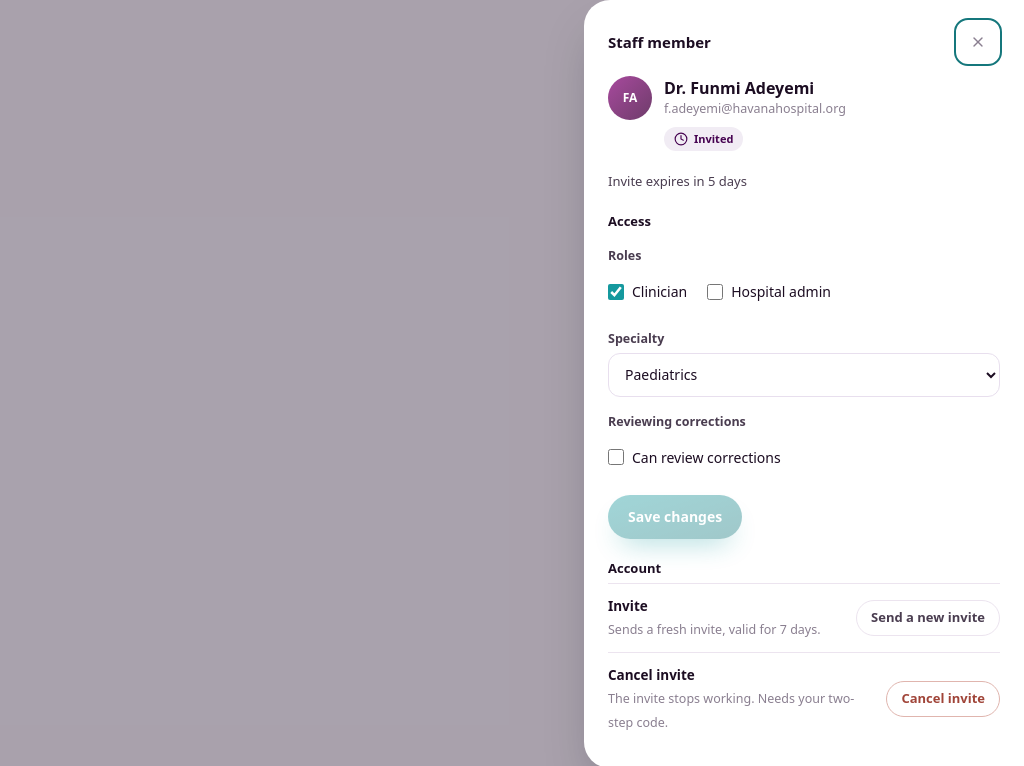
Test: AccountActions › cancels an invite with your two-step code
This screenshot has width=1024, height=766.
Click the button "Cancel invite" at (943, 699), box [886,681,1000,717]
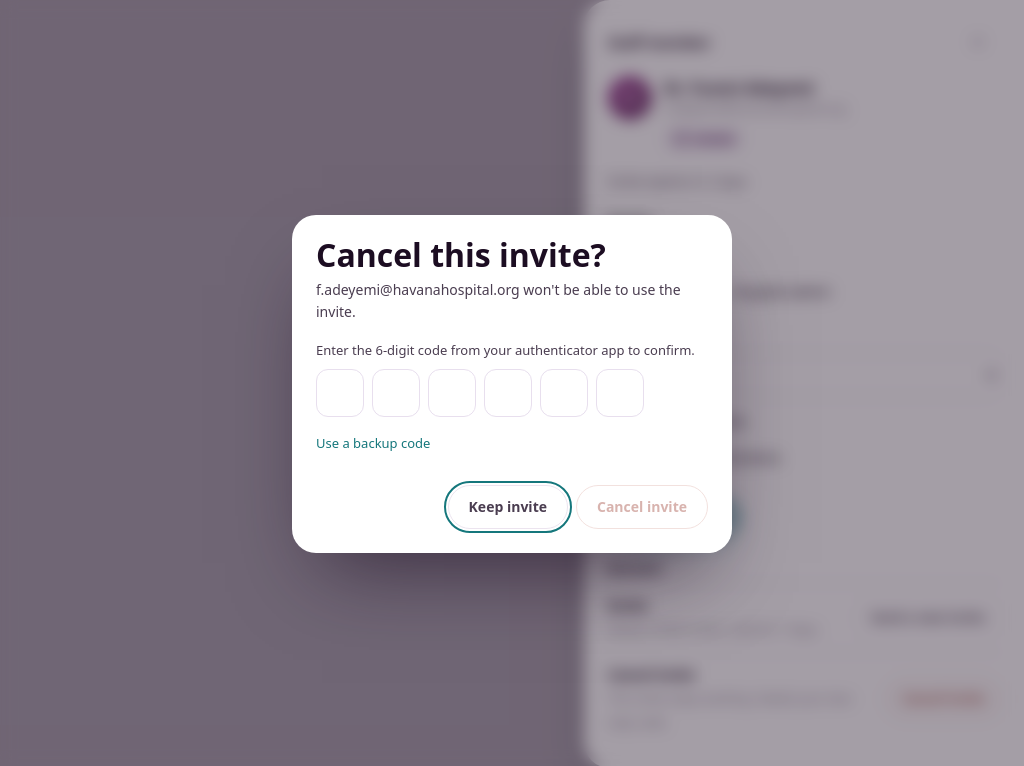
Check: the button "Cancel invite" is disabled, box [576,485,708,529]
Click the field named "Digit 1 of 6" at (340, 393), box [316,369,364,417]
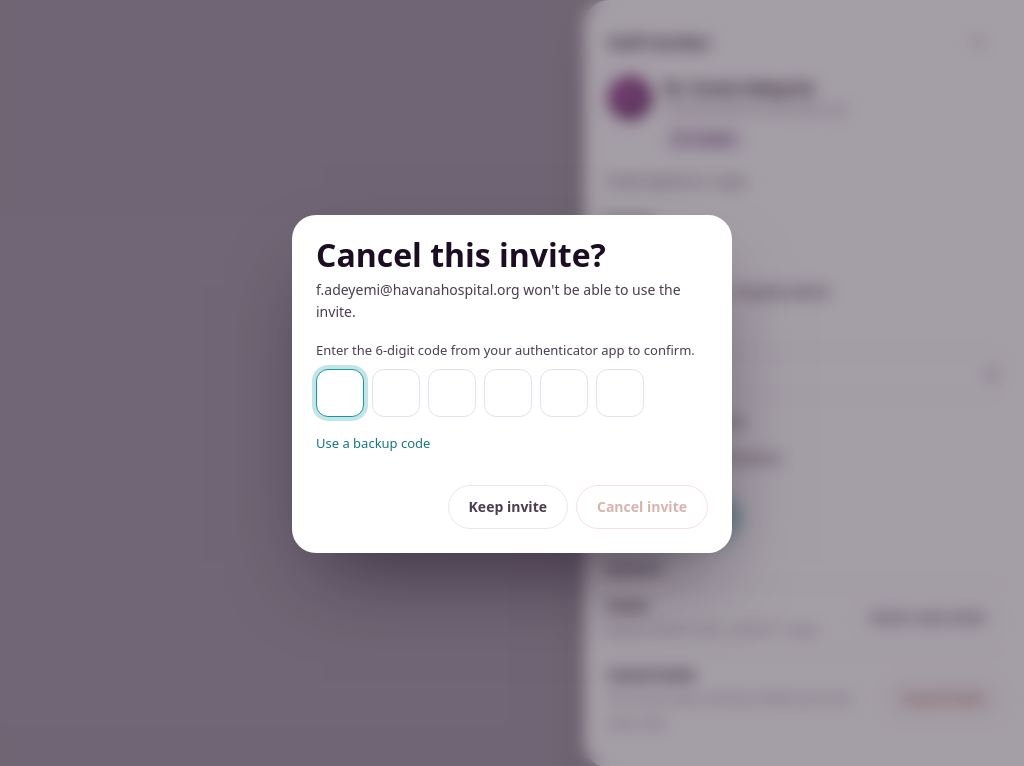
Type keys "123456"
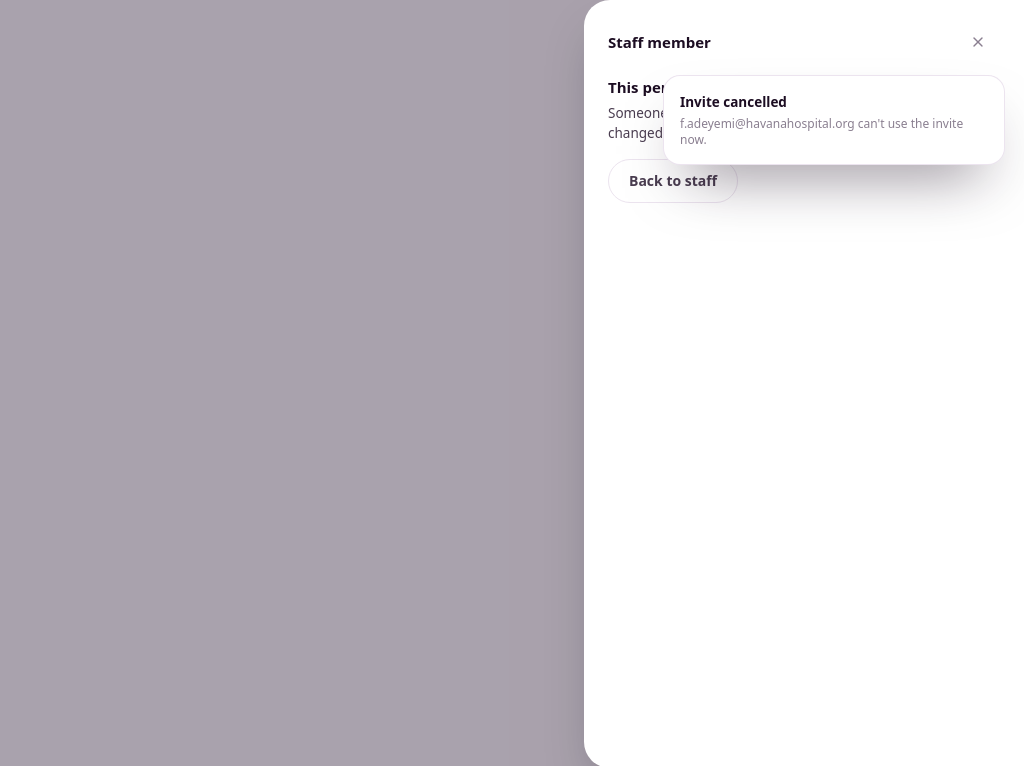
Check: the text "Invite cancelled" is shown, box [680,93,787,111]
